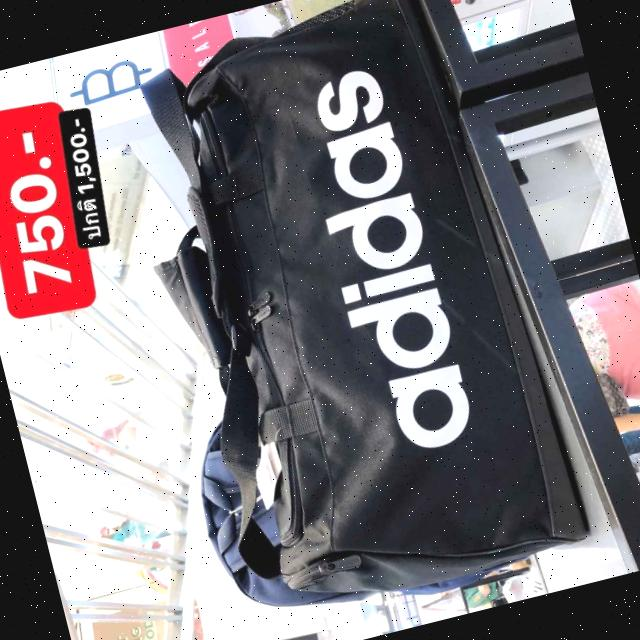Handbag: (146, 0, 593, 618)
